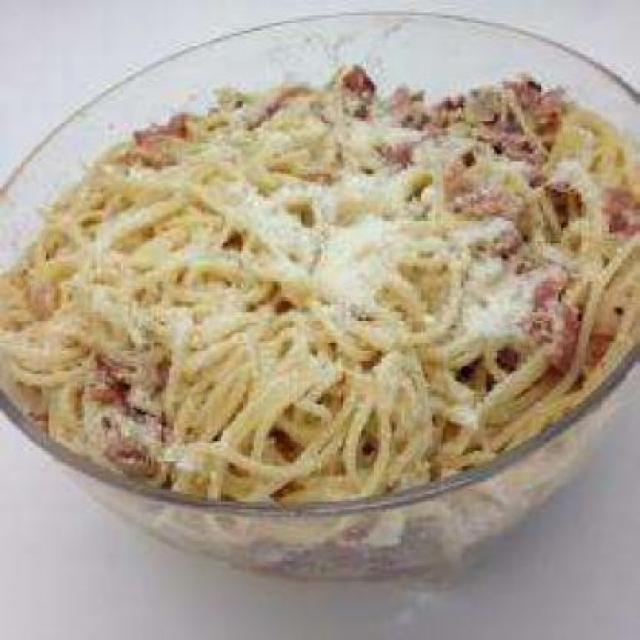Pasta with carbonara sauce: (18, 38, 638, 584)
